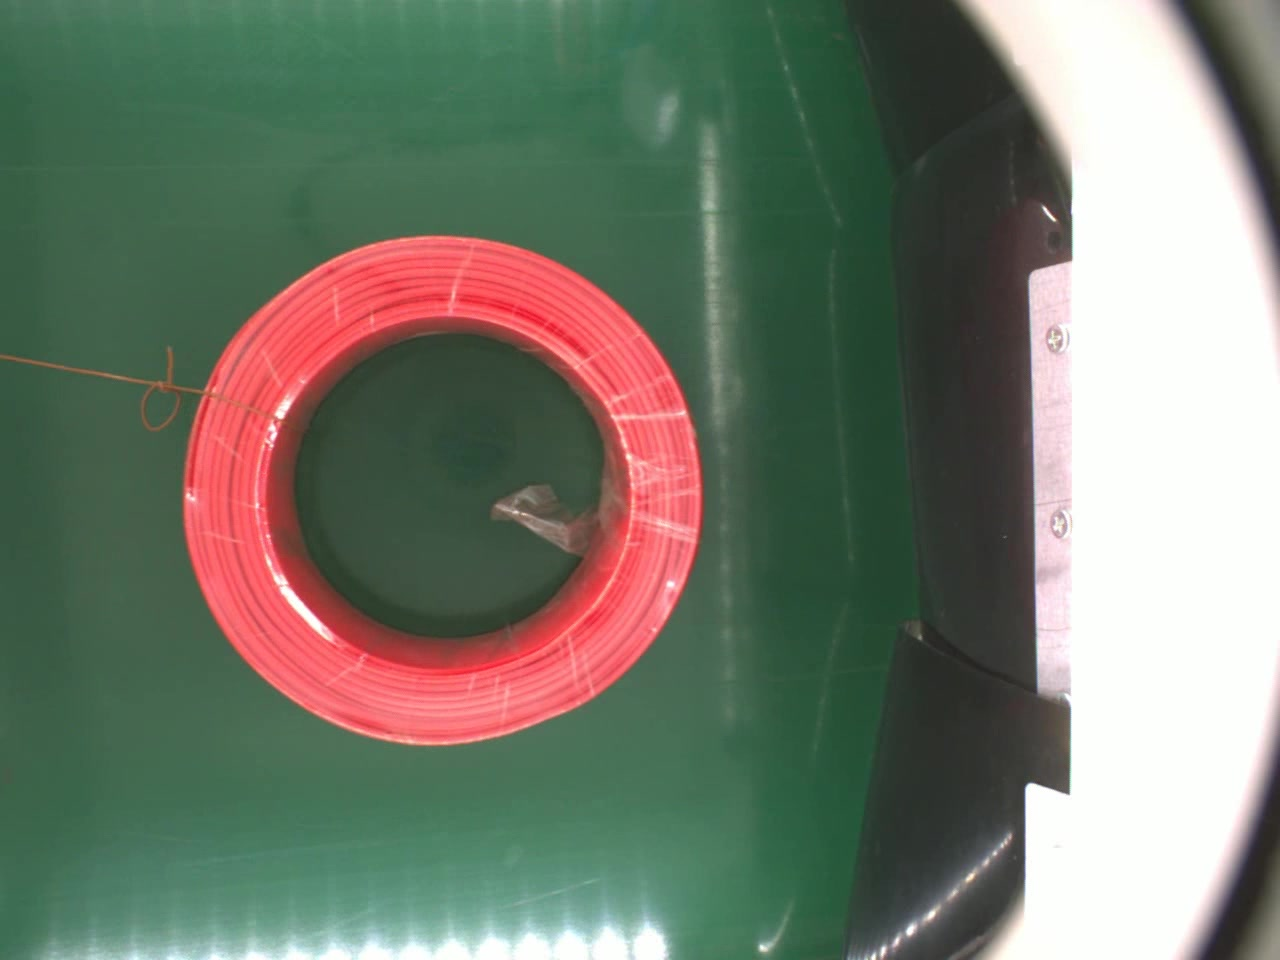red: (178, 233, 703, 746)
